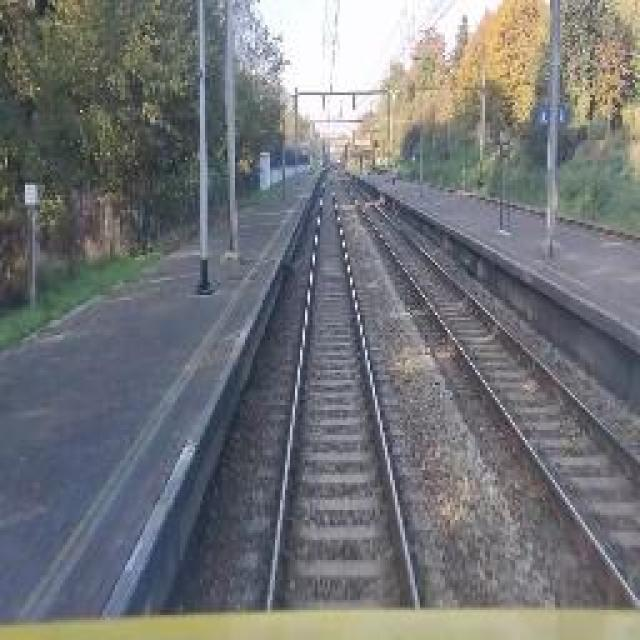rail: (337, 178, 640, 606), (244, 167, 443, 616)
